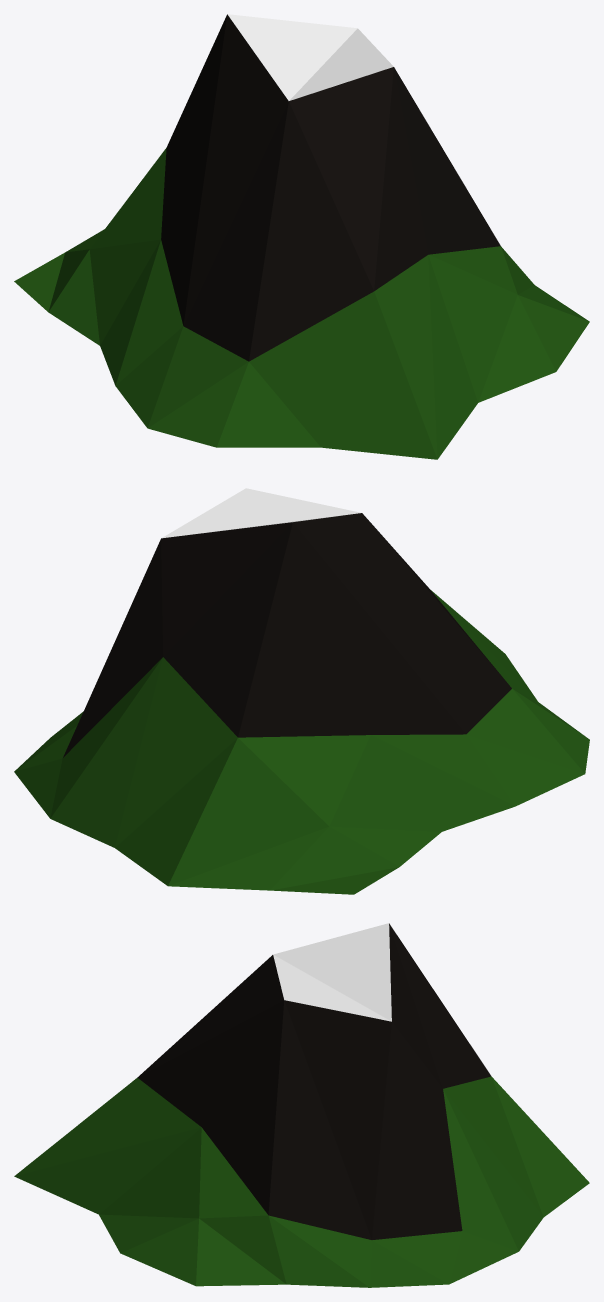
Rendered from Mountain_6.fbx.
The picture shows the model from 3 angles, top to bottom: view 1: azimuth 30°, elevation 25°; view 2: azimuth 150°, elevation 25°; view 3: azimuth 270°, elevation 25°; orthographic projection. The views are drawn at different scales.
Visible parts, largest first — view 1: Mountain_6; view 2: Mountain_6; view 3: Mountain_6.
Boxes of the visible parts, x1,y1,x2,y2 form: Mountain_6: (14,14,589,459); Mountain_6: (14,488,589,894); Mountain_6: (14,923,589,1287).
Size of the model in its own units: 1308 by 812 by 1666.
